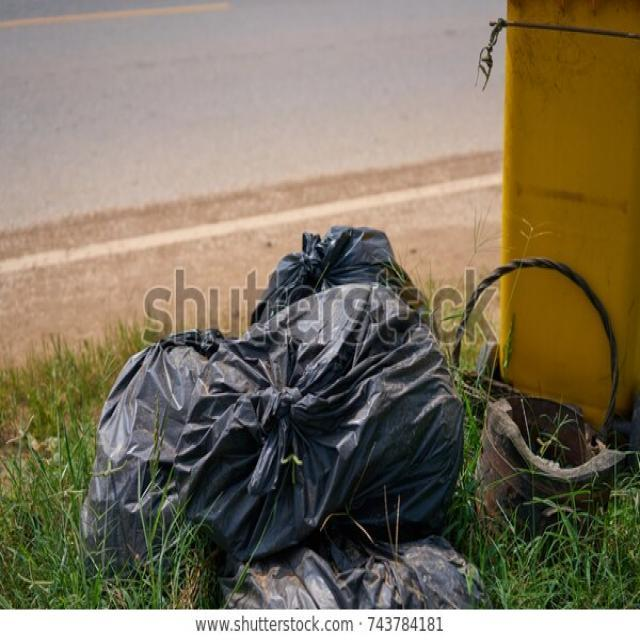garbage: (172, 226, 500, 604), (452, 270, 632, 554), (74, 324, 220, 614)
